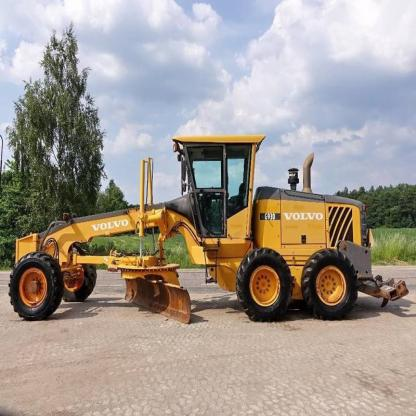bull_dozer/loader/grader: (7, 127, 380, 334)
